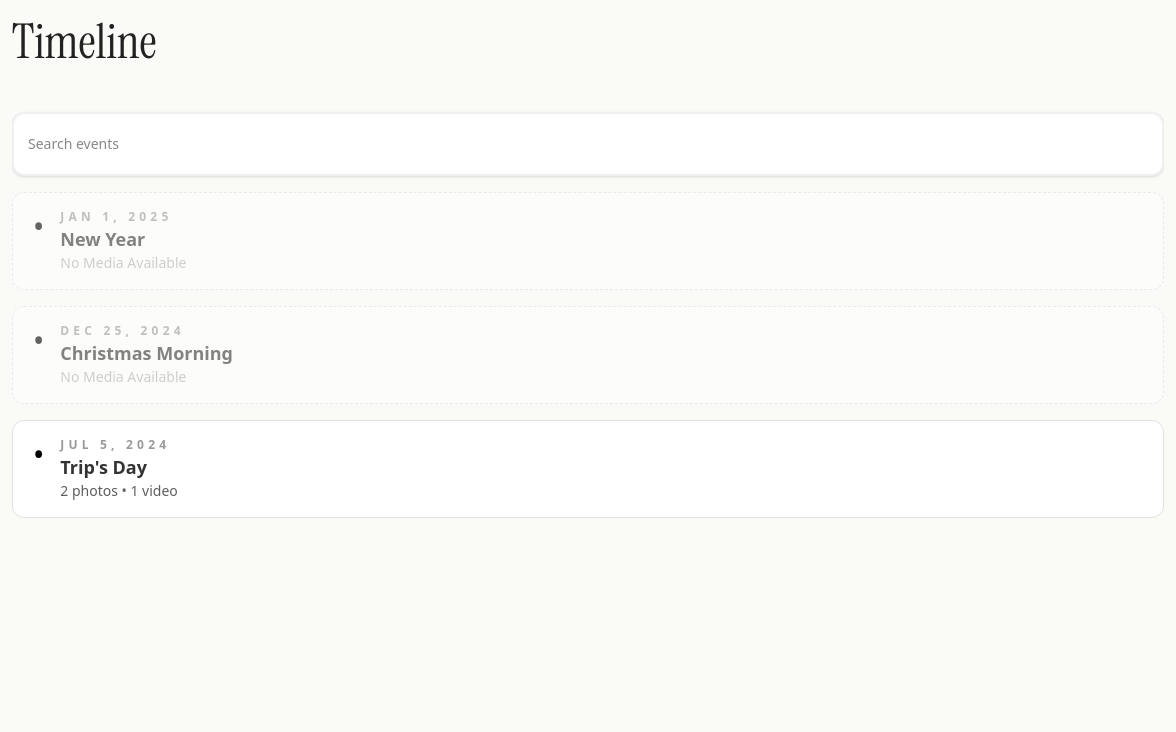
Scenario: TimelinePage › search bar › filters events by title
The width and height of the screenshot is (1176, 732).
Type "christmas" into the field labelled "Search events" at (588, 144), box [12, 112, 1164, 176]
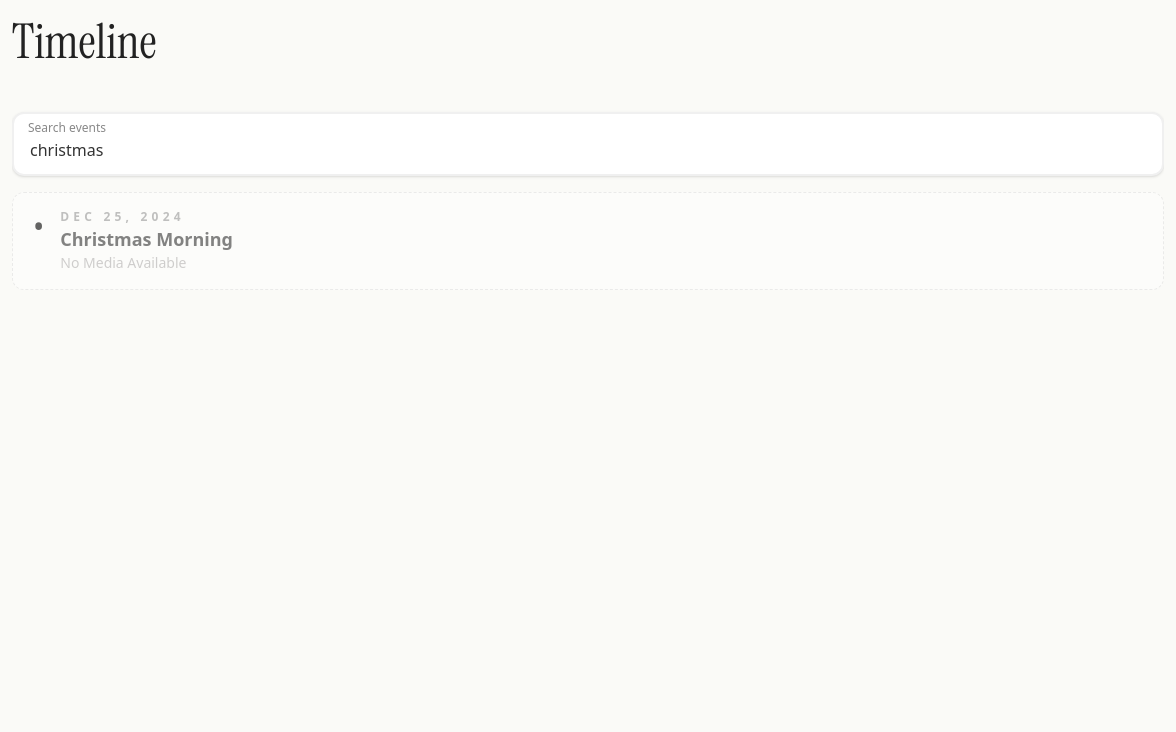
Expected: the text "Christmas Morning" is shown, [60, 227, 233, 251]
Now the button "Trip's Day" is gone
Now the button "New Year" is gone
